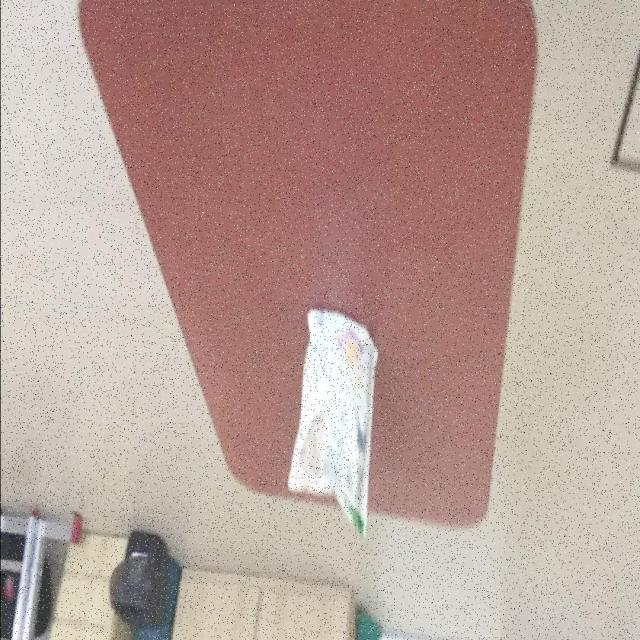CornFlakes: (287, 308, 380, 540)
